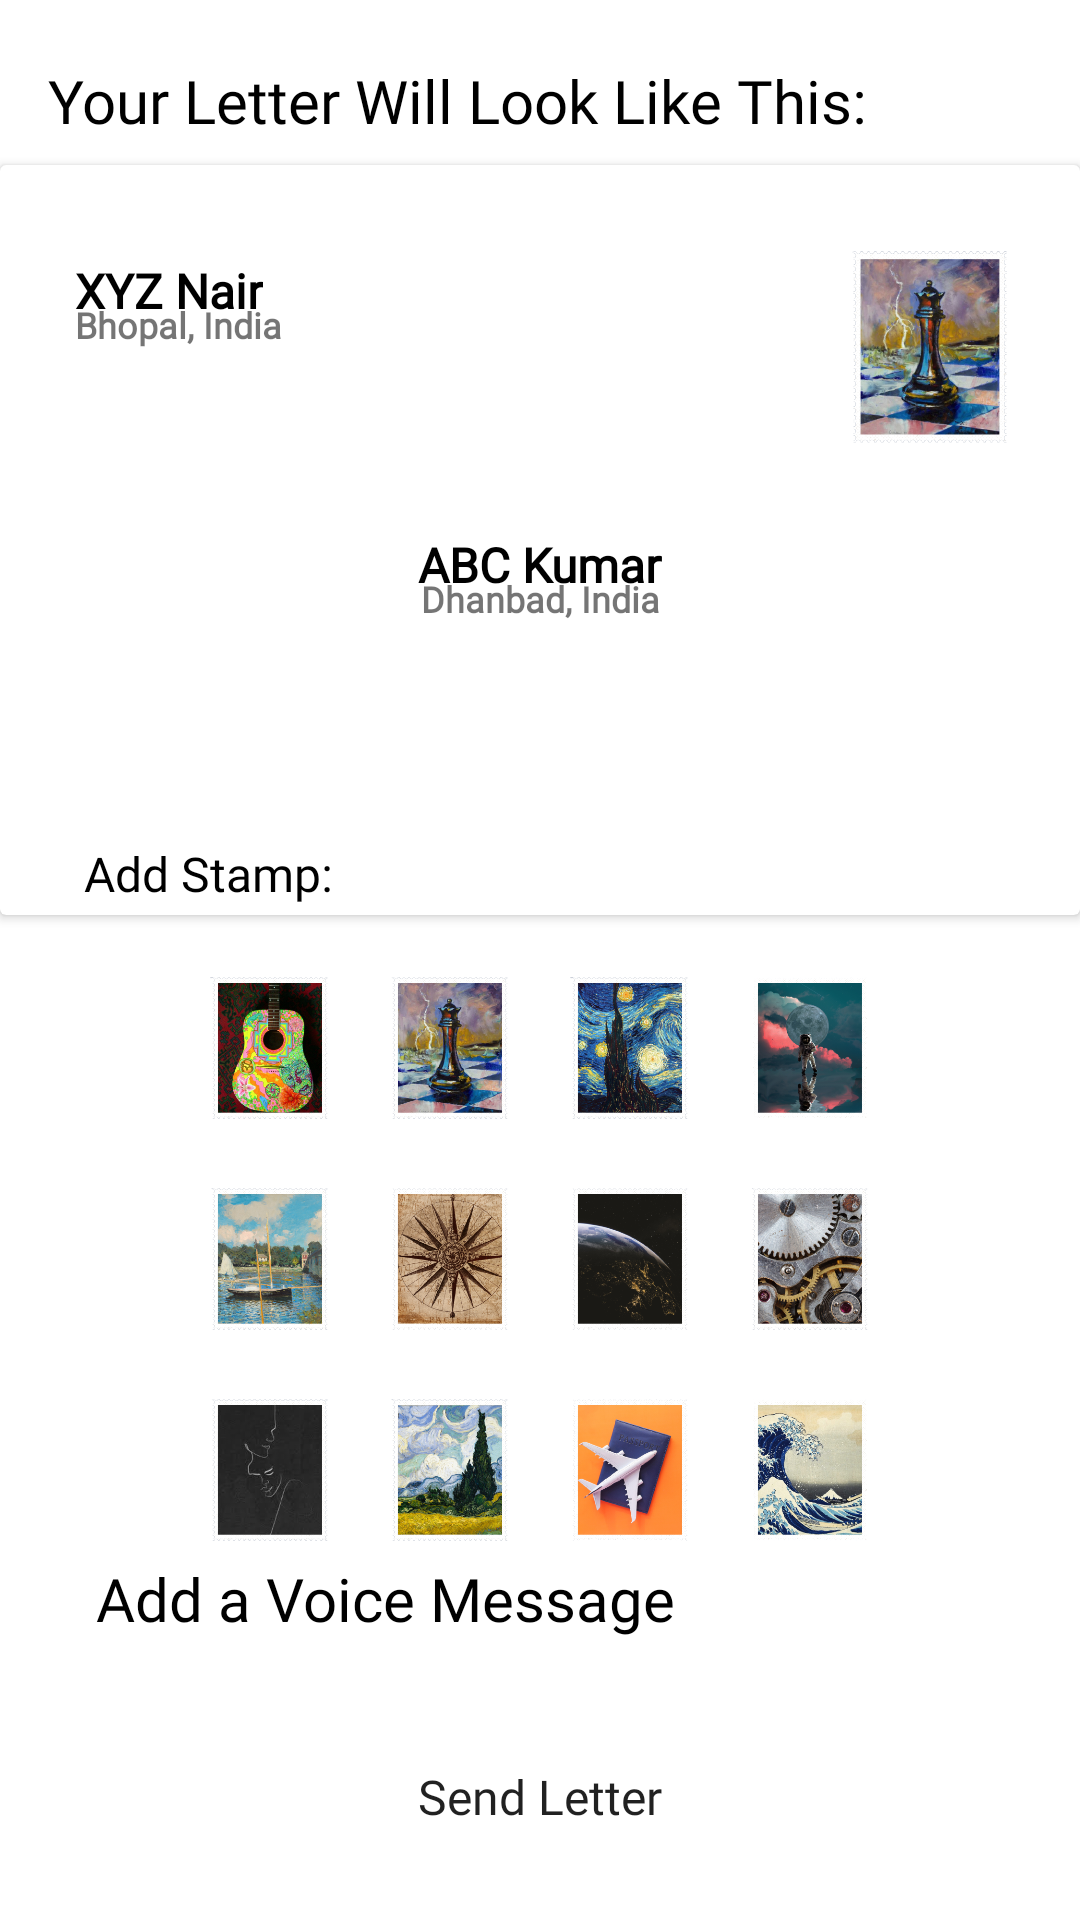

Icon click points for this 1080 x 1920 phone screenshot, format (x,y):
stamp earth: (630,1261)
stamp engineering: (809,1259)
stamp wave: (812,1472)
